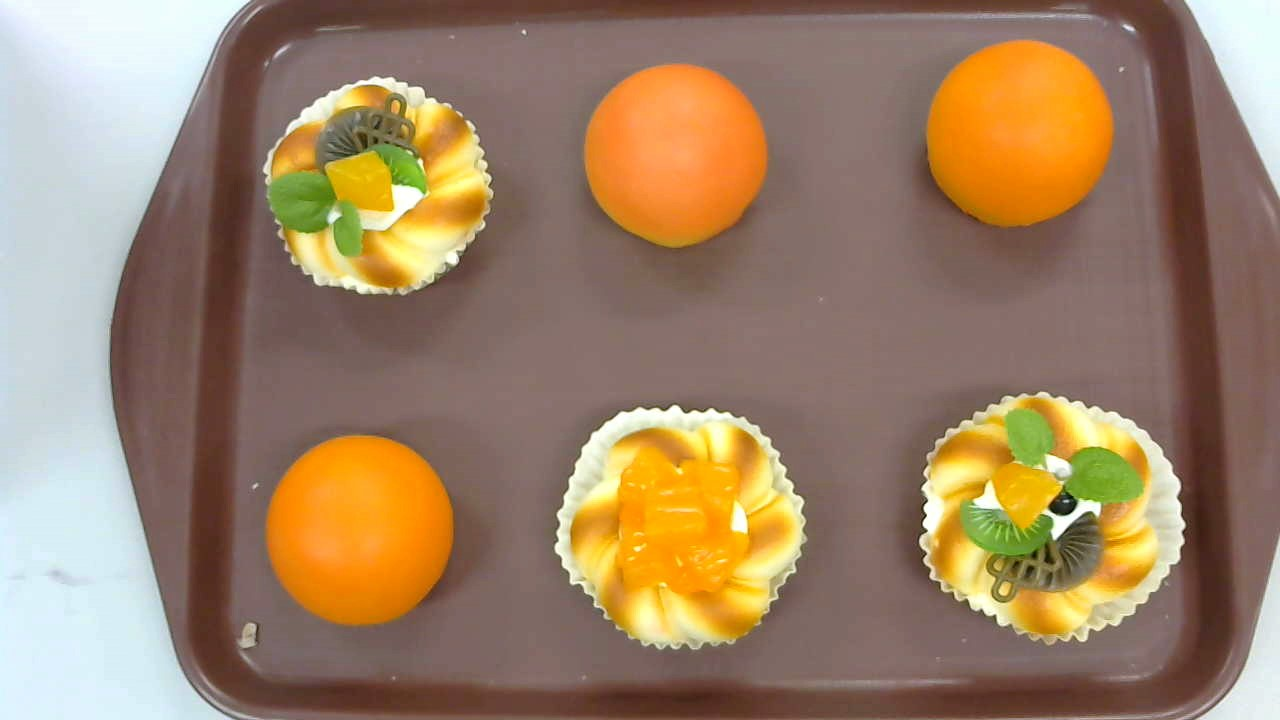bun: (924, 39, 1115, 227), (266, 433, 453, 625), (581, 63, 766, 247)
fruit tart: (919, 391, 1186, 647), (263, 75, 495, 297)
mango tart: (553, 403, 808, 650)
